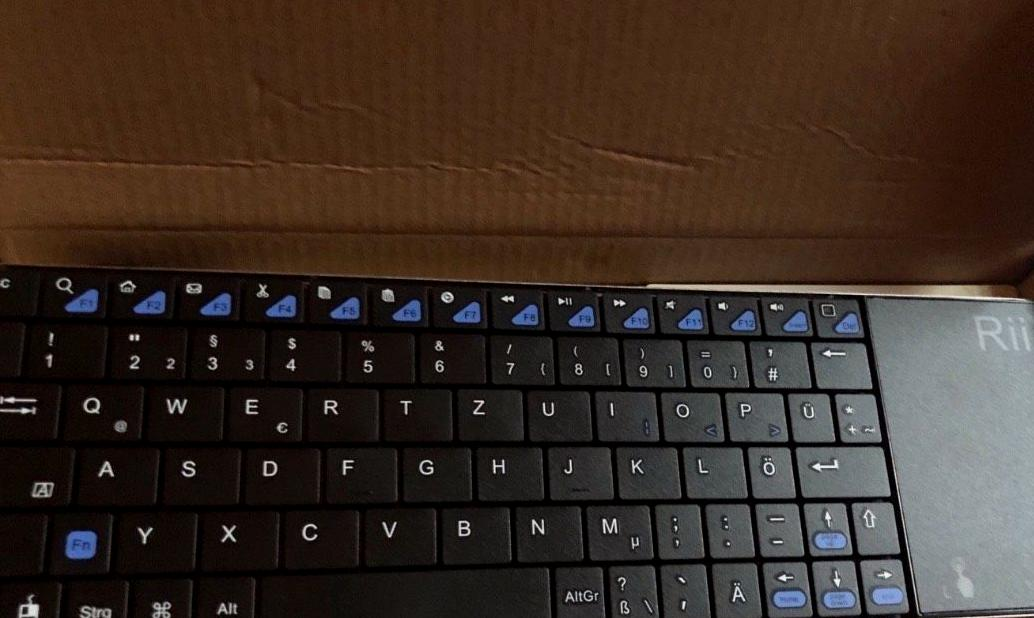0: (683, 335, 745, 386)
1: (25, 321, 106, 378)
2: (108, 322, 187, 379)
3: (187, 323, 265, 380)
4: (267, 325, 340, 381)
5: (342, 328, 413, 382)
6: (416, 329, 485, 383)
7: (487, 331, 552, 384)
8: (554, 332, 618, 384)
9: (620, 334, 683, 386)
a: (74, 444, 158, 506)
accent: (658, 560, 710, 618)
ae: (711, 564, 761, 618)
alt-left: (195, 573, 255, 618)
altgr-right: (552, 561, 604, 618)
b: (437, 502, 510, 564)
c: (278, 506, 359, 570)
caret: (1, 319, 35, 376)
comma: (651, 499, 701, 557)
d: (240, 443, 318, 505)
del: (809, 337, 870, 387)
e: (223, 383, 302, 443)
enter: (794, 441, 889, 496)
f: (321, 443, 394, 503)
g: (397, 443, 469, 501)
h: (473, 443, 541, 500)
hash: (747, 336, 807, 387)
i: (592, 386, 655, 439)
j: (544, 442, 611, 499)
k: (613, 442, 678, 498)
keyboard: (1, 253, 1034, 618)
l: (680, 442, 744, 497)
m: (581, 500, 651, 560)
minus: (752, 498, 802, 556)
n: (510, 501, 581, 561)
o: (656, 387, 721, 440)
oe: (745, 442, 793, 497)
p: (721, 387, 785, 440)
plus: (832, 389, 879, 440)
point: (702, 499, 751, 556)
q: (59, 382, 144, 441)
r: (302, 384, 378, 441)
s: (158, 445, 239, 505)
shift-left: (1, 510, 48, 577)
shift-lock: (1, 443, 75, 508)
shift-right: (851, 500, 901, 558)
space: (259, 565, 551, 618)
ss: (605, 561, 657, 618)
strg-left: (62, 575, 127, 618)
t: (379, 384, 450, 441)
tab: (1, 377, 61, 442)
u: (523, 385, 590, 442)
ue: (785, 388, 832, 441)
v: (361, 503, 435, 566)
w: (143, 382, 222, 442)
x: (197, 508, 278, 571)
y: (113, 510, 195, 573)
z: (453, 384, 522, 440)
